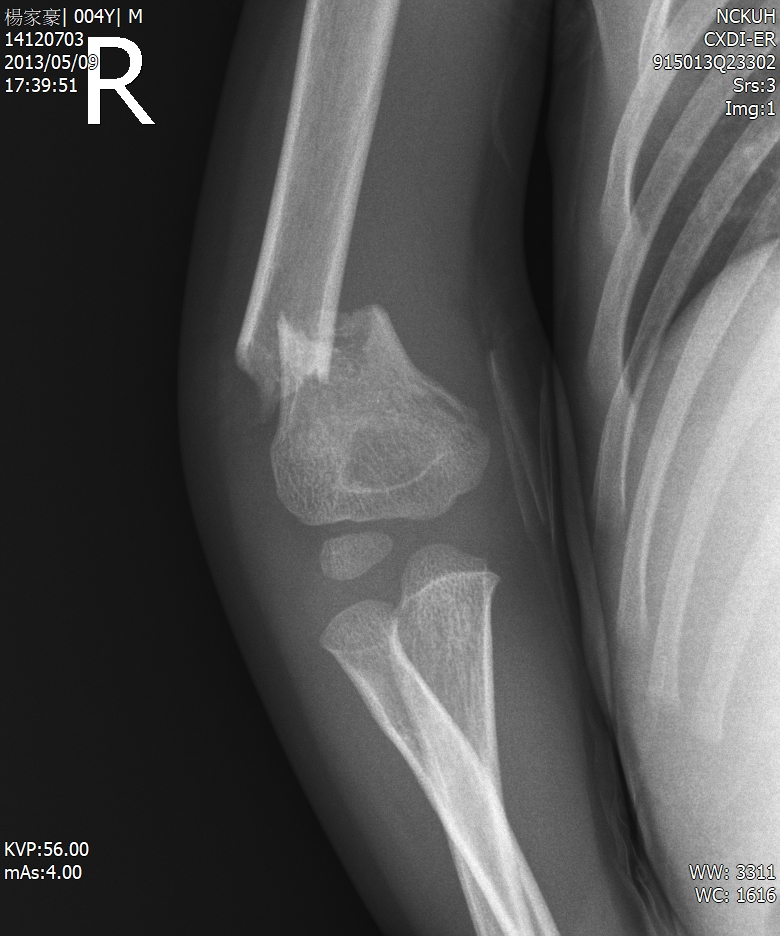SCF type 3: (106, 163, 595, 722)
